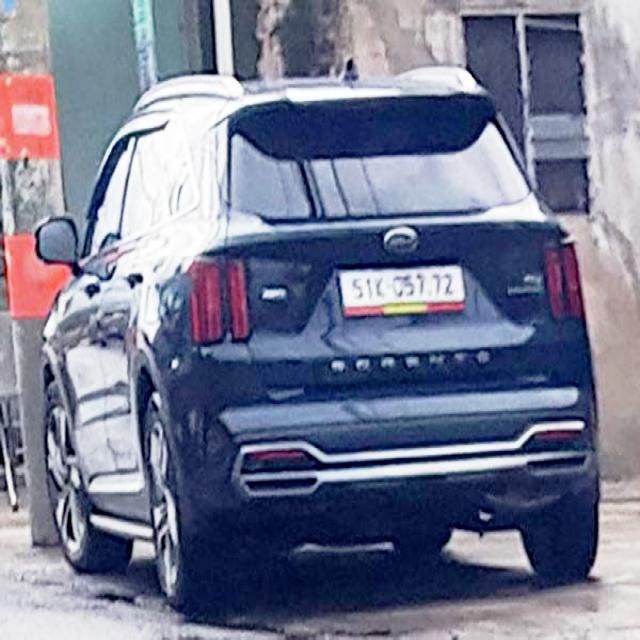license_plate: (340, 267, 467, 314)
